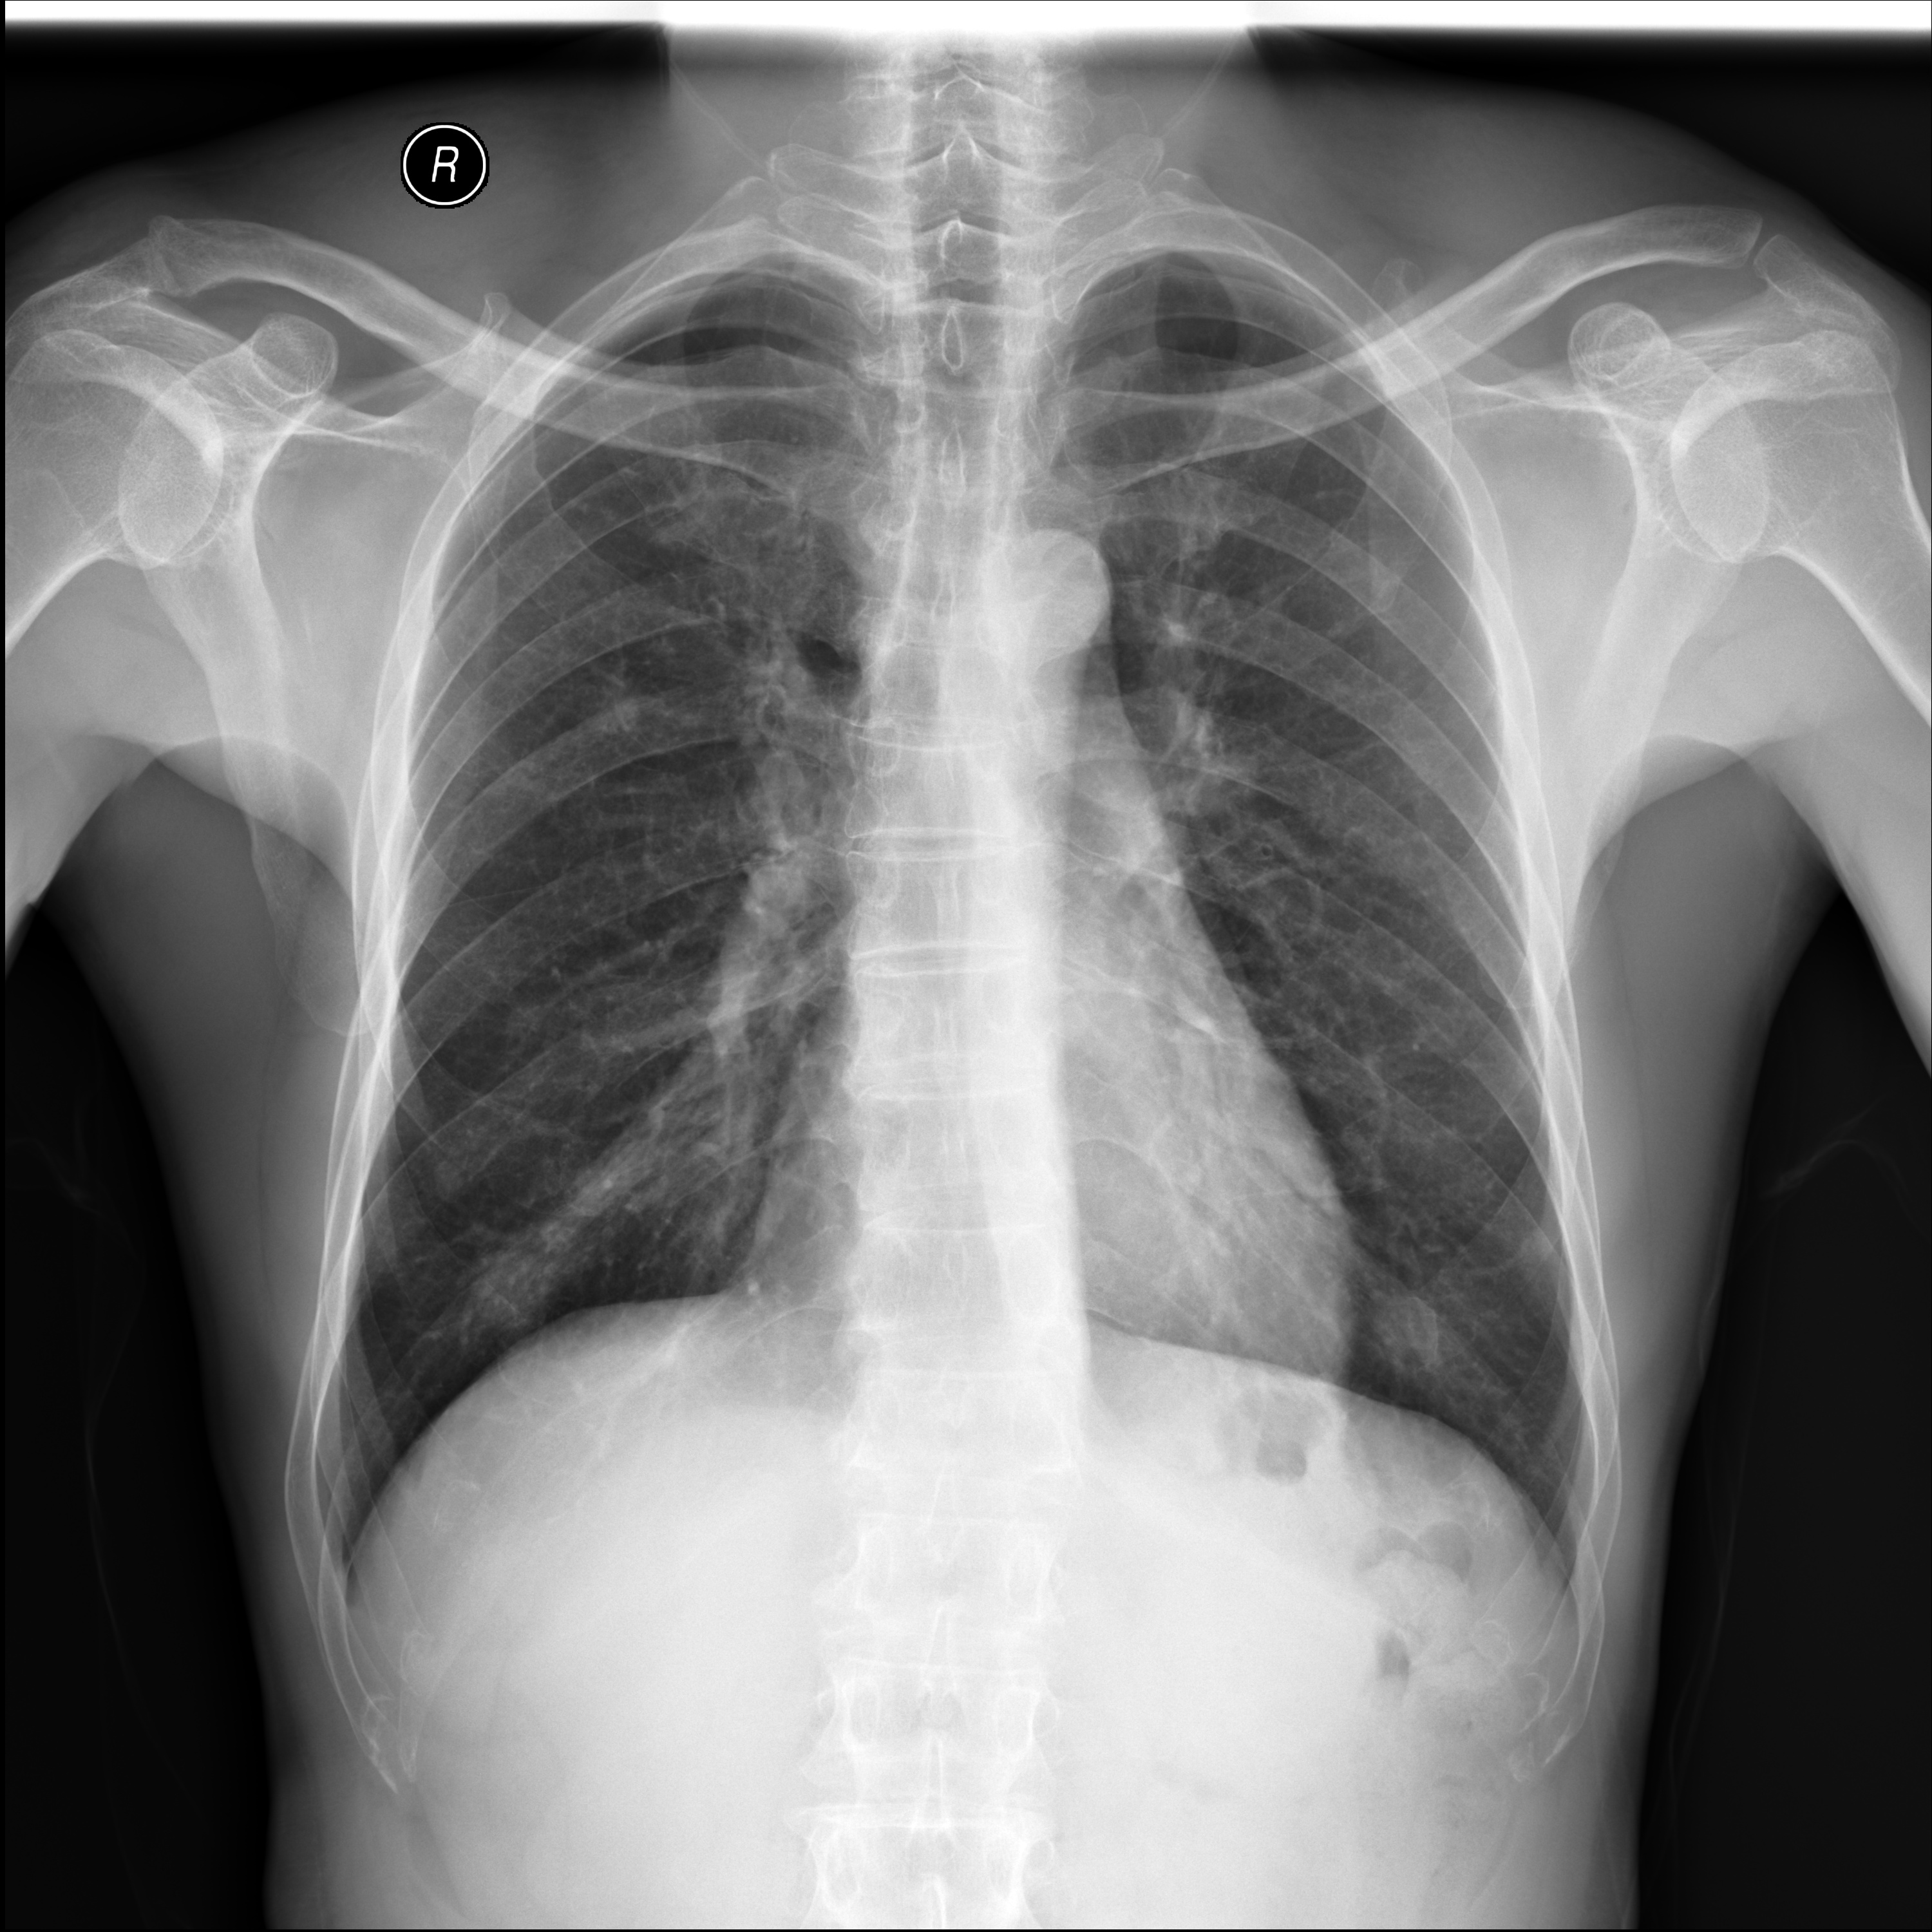nodule: (1322, 1261, 1495, 1424), (418, 1210, 610, 1353), (563, 649, 672, 755), (1488, 1175, 1578, 1293), (465, 973, 577, 1062), (402, 1118, 499, 1210)
